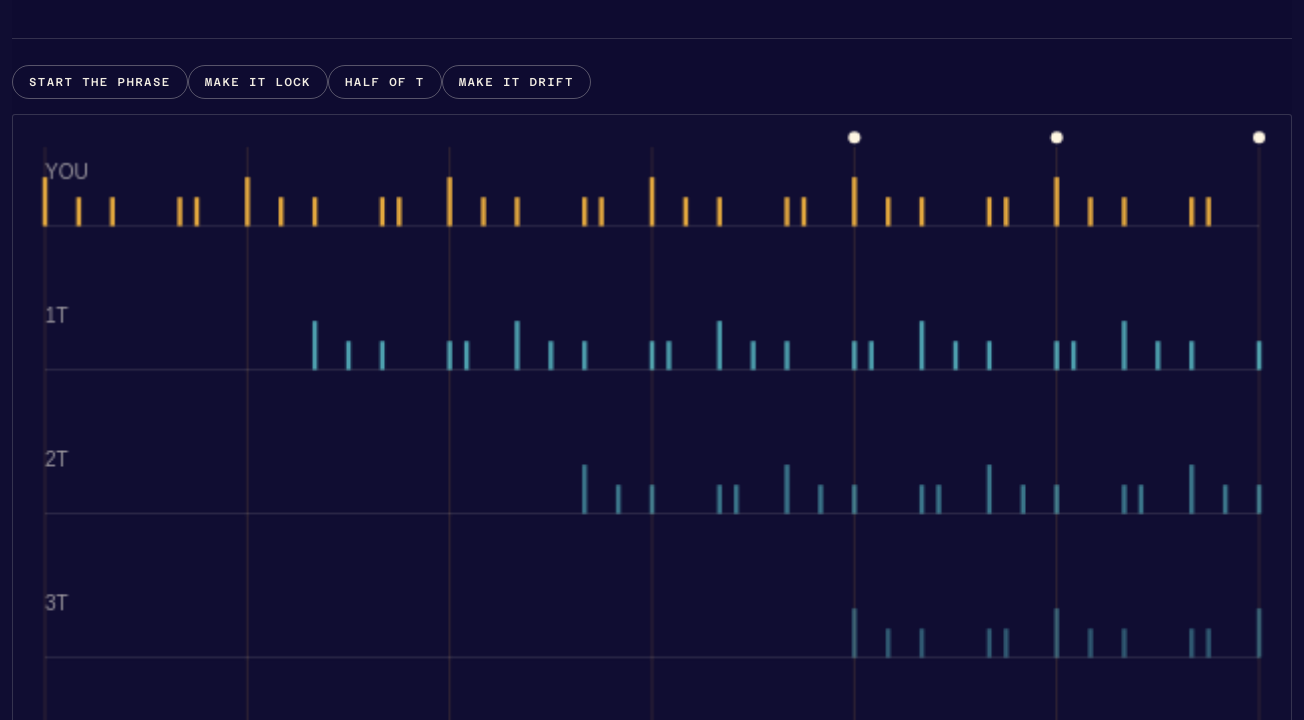
it: Canon › stop kills the feedback path so the tape empties honestly
Step 1. Click the button "Start the phrase" → (100, 82), box [12,65,188,99]
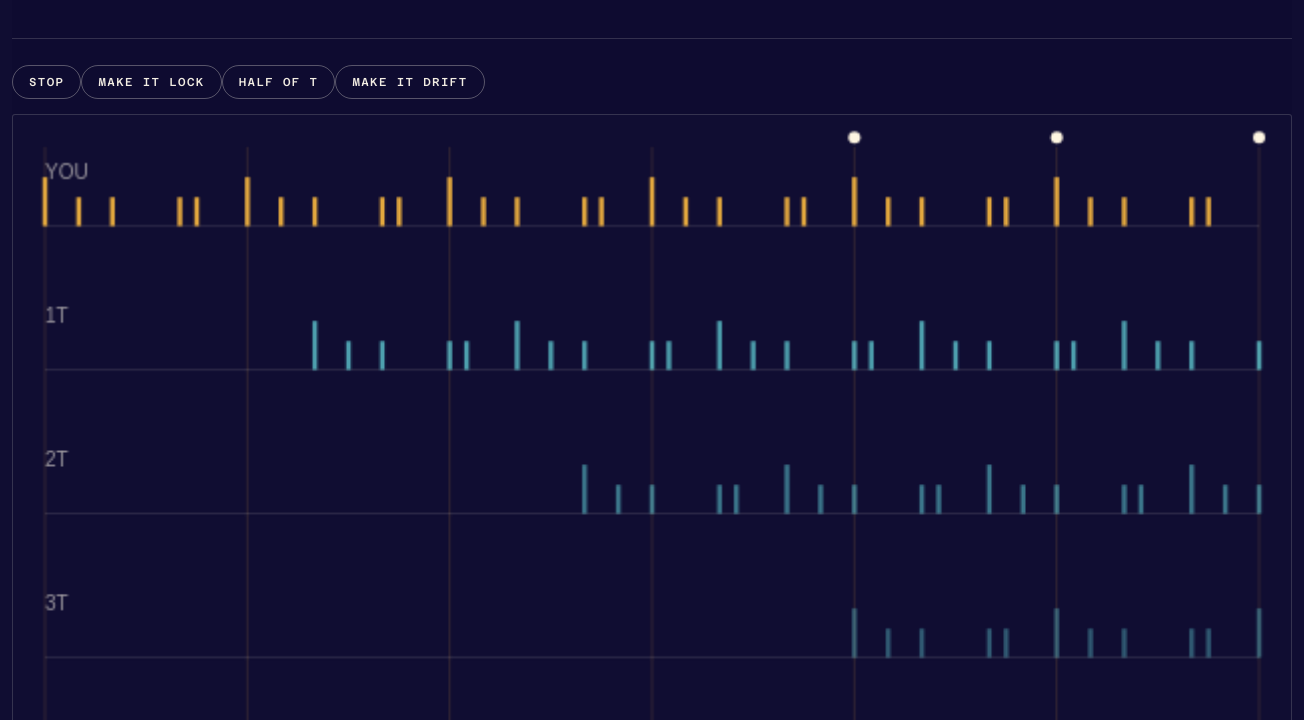
Result: the button "Stop" is shown
Step 2. Click the button "Stop" → (47, 82), box [12,65,81,99]
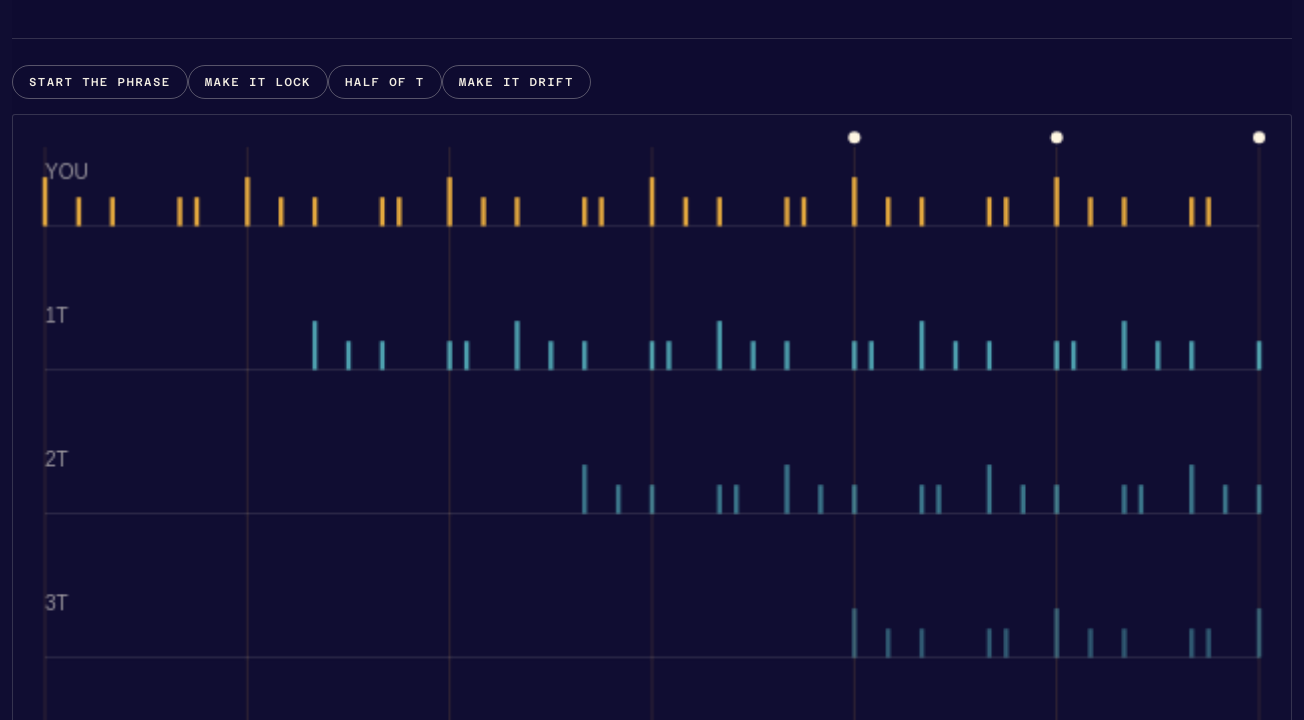
Result: the button "Start the phrase" is shown
Step 3. Click the button "Start the phrase" → (100, 82), box [12,65,188,99]
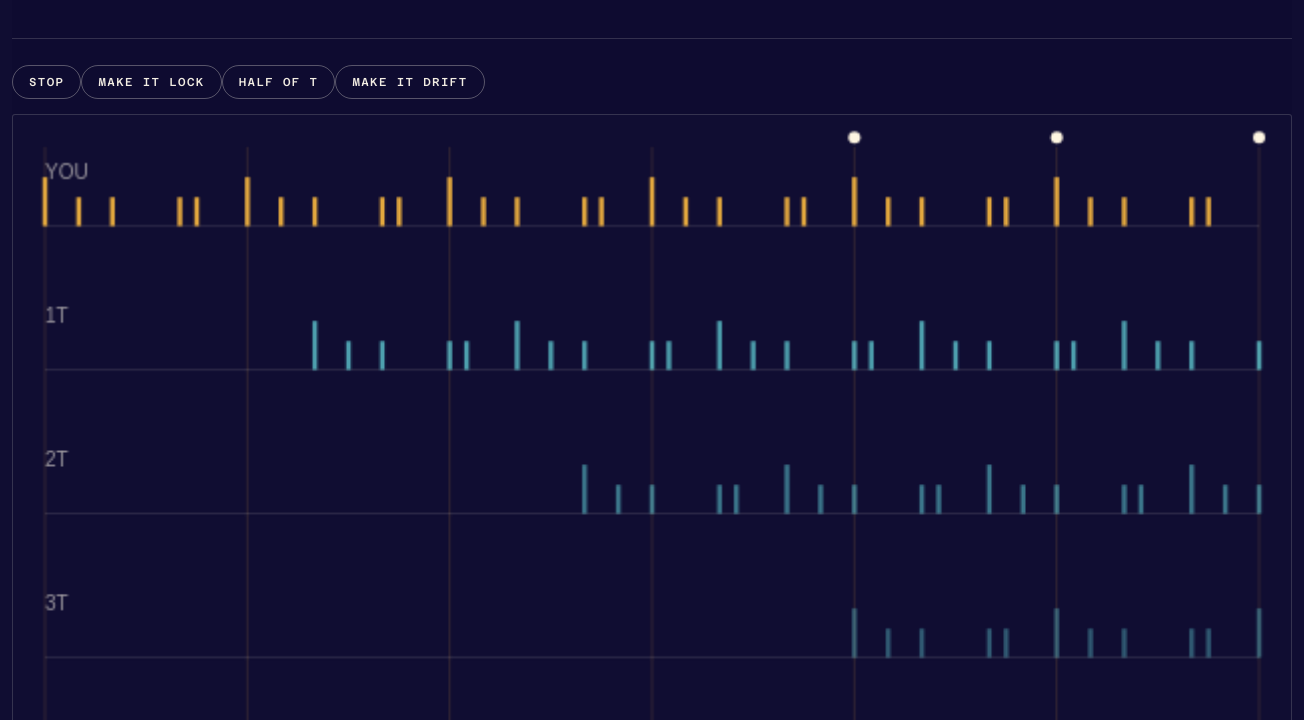
Result: the button "Stop" is shown at [12,65,81,99]
